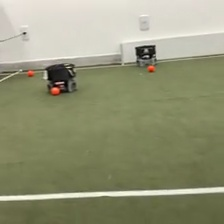ball: (48, 84, 60, 96), (25, 68, 34, 77), (147, 63, 155, 72)
goal: (118, 31, 224, 68)
robot: (43, 61, 79, 94), (134, 43, 158, 69)
